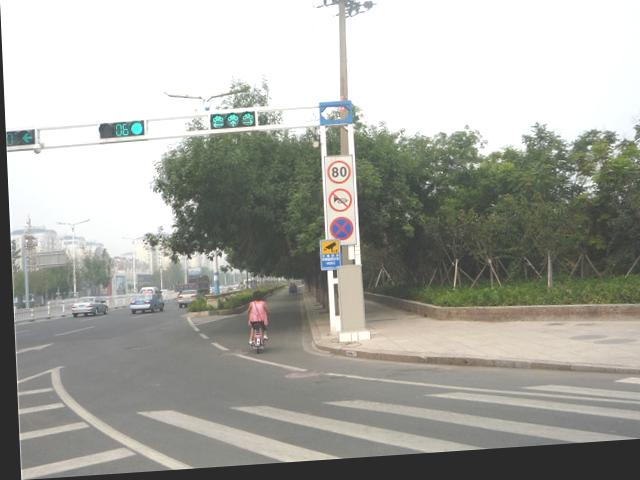limit80: (325, 163, 350, 189)
